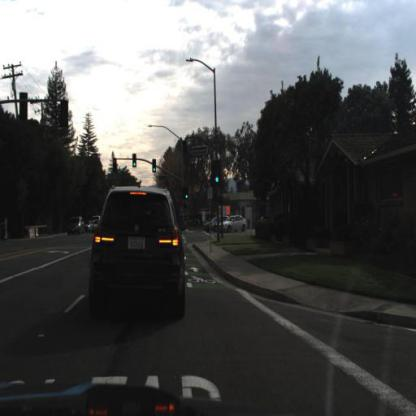car: (86, 181, 189, 324), (217, 209, 248, 232), (67, 214, 84, 235)
trafficLight: (111, 153, 118, 174)
trafficLight-Green: (210, 161, 222, 192), (130, 150, 138, 171), (150, 154, 158, 175), (184, 188, 189, 202), (152, 157, 156, 173), (132, 153, 136, 167)
